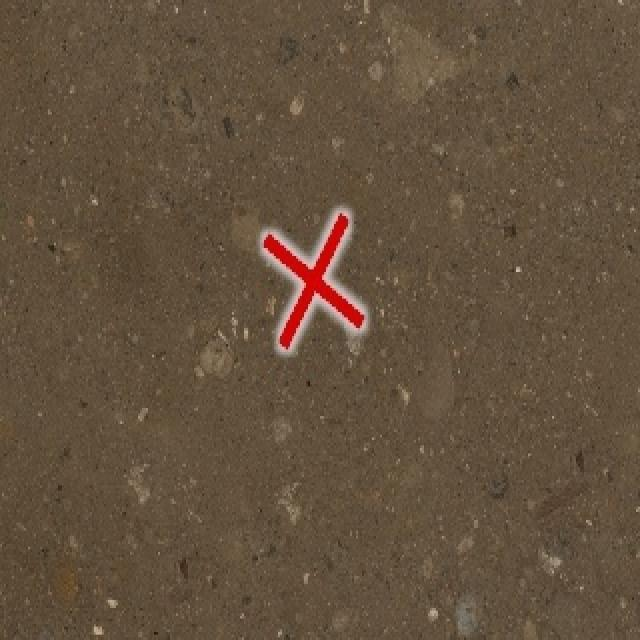x_marker: (263, 212, 363, 348)
